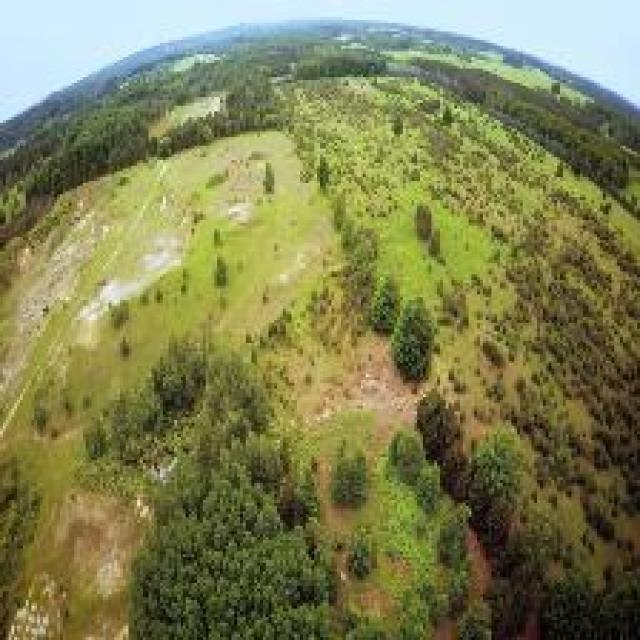other: (267, 334, 449, 428)
